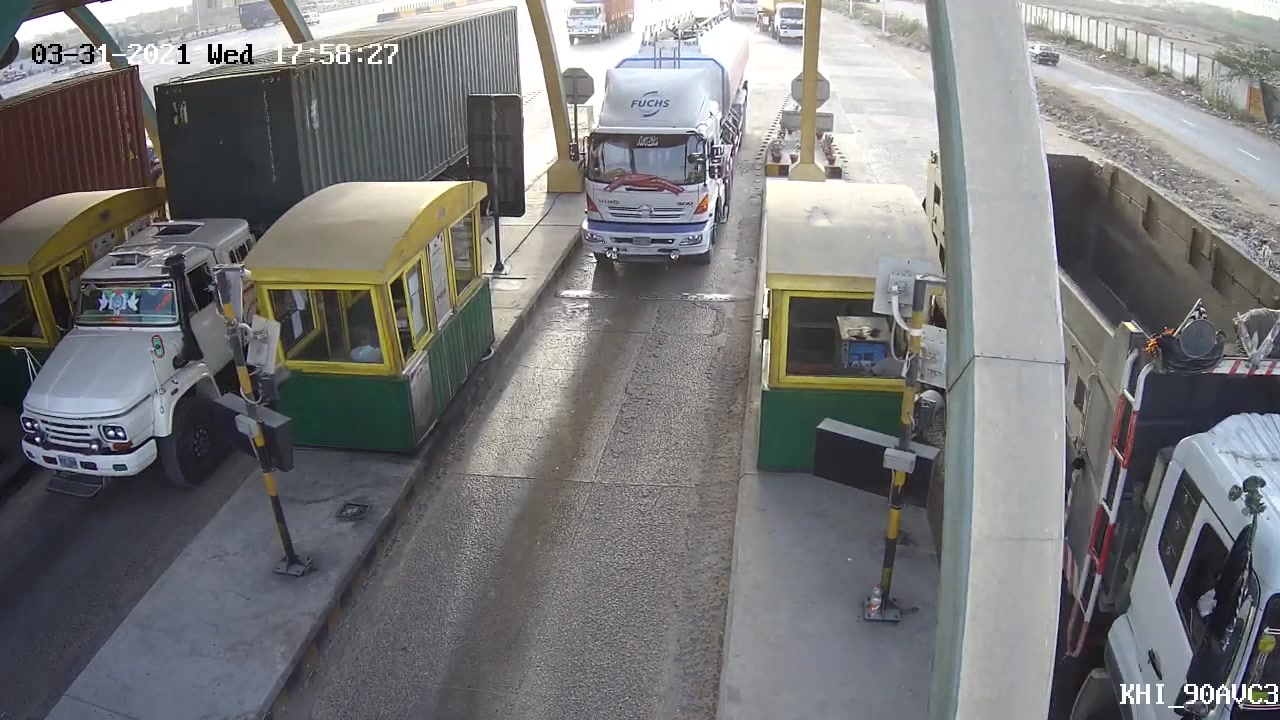F6: (569, 14, 760, 282)
